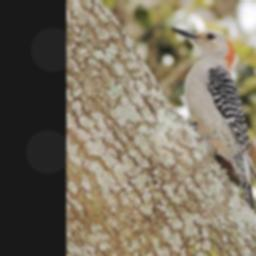Woodpecker: (167, 17, 256, 220)
